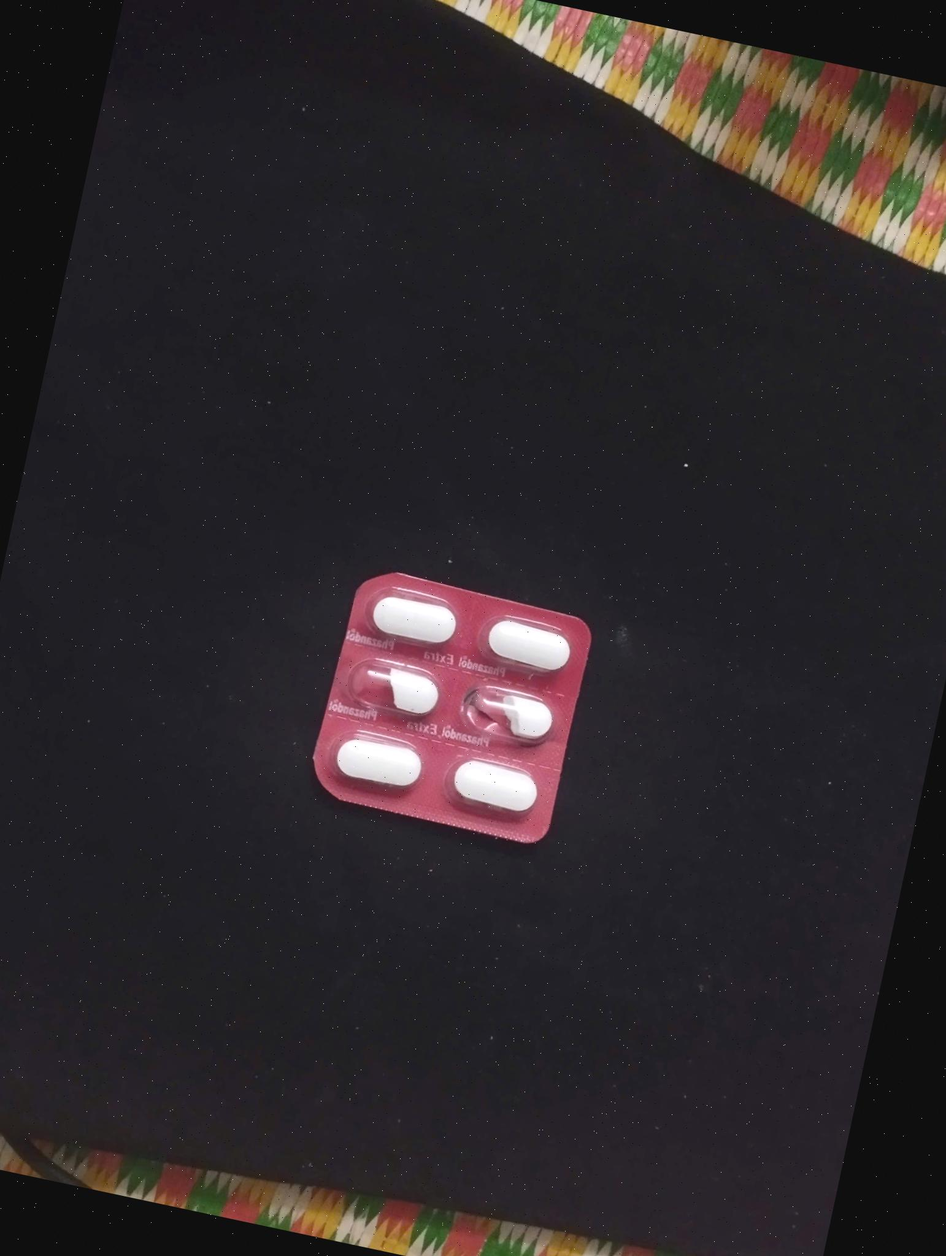Full: (436, 746, 551, 824), (355, 581, 466, 658), (326, 726, 433, 802), (478, 610, 580, 683)
Partial: (333, 649, 446, 727), (452, 672, 563, 750)
